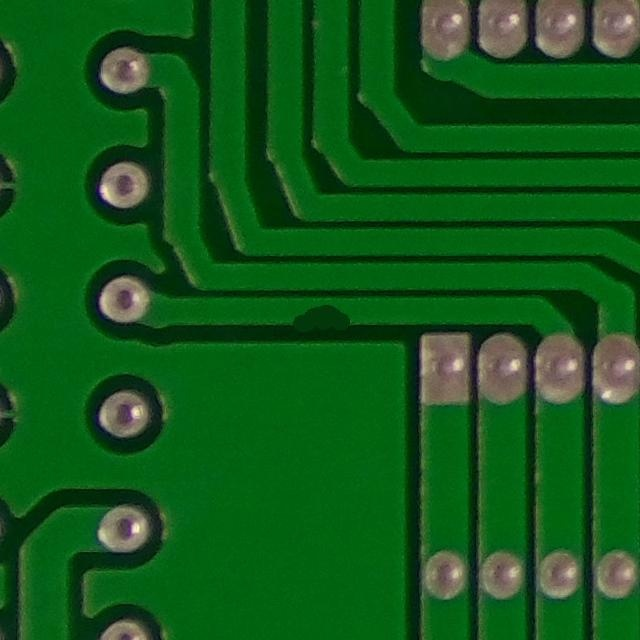mouse_bite: (274, 292, 367, 347)
